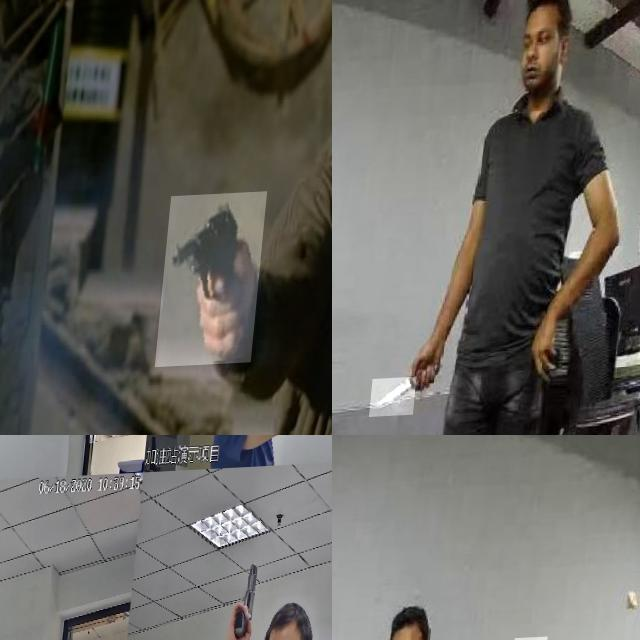-: (379, 380, 426, 420)
gun-knife-thesis - v11 Yolov5 augmented: (166, 194, 274, 370), (232, 567, 273, 640), (275, 435, 324, 484), (0, 559, 17, 640), (0, 435, 25, 478)
